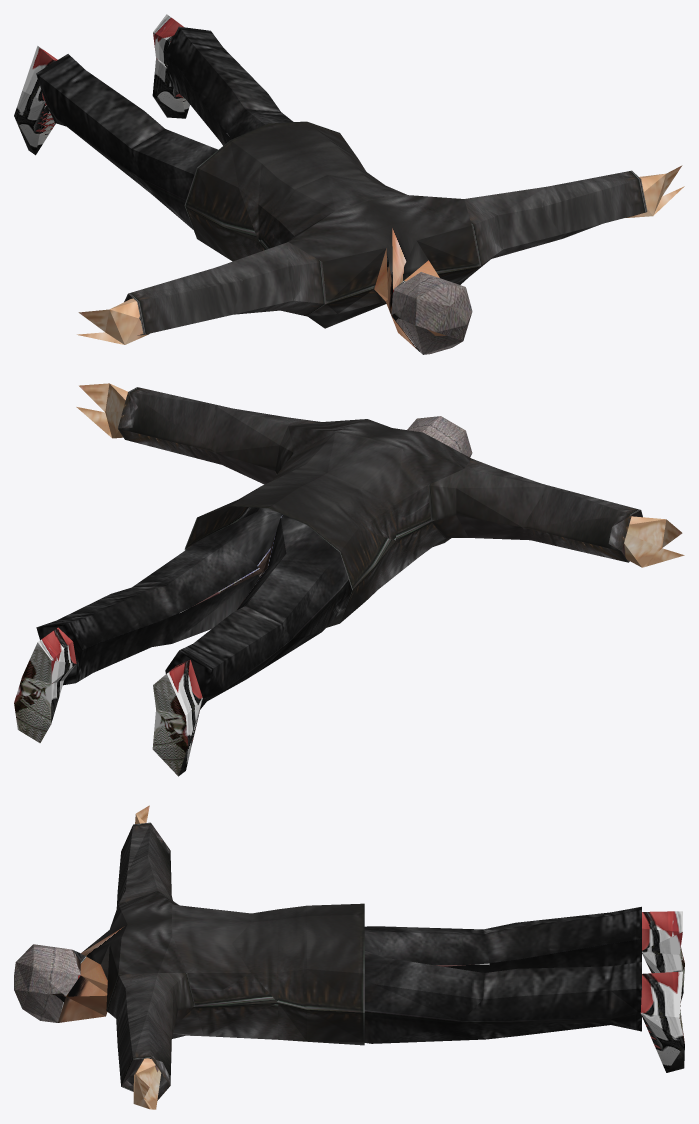
File: thug_miguellow_wtf.obj
3 views of the same model, one above another, from view 1: azimuth 30°, elevation 25°; view 2: azimuth 150°, elevation 25°; view 3: azimuth 270°, elevation 25° (orthographic). The views are drawn at different scales.
Parts seen in each view (by area): view 1: group1; view 2: group1; view 3: group1.
Part boxes in pixels (left/top/right/bottom): group1: left=14, top=14, right=684, bottom=354; group1: left=14, top=383, right=684, bottom=776; group1: left=14, top=805, right=684, bottom=1109.
Size of the model in its own units: 660 by 135 by 658.
